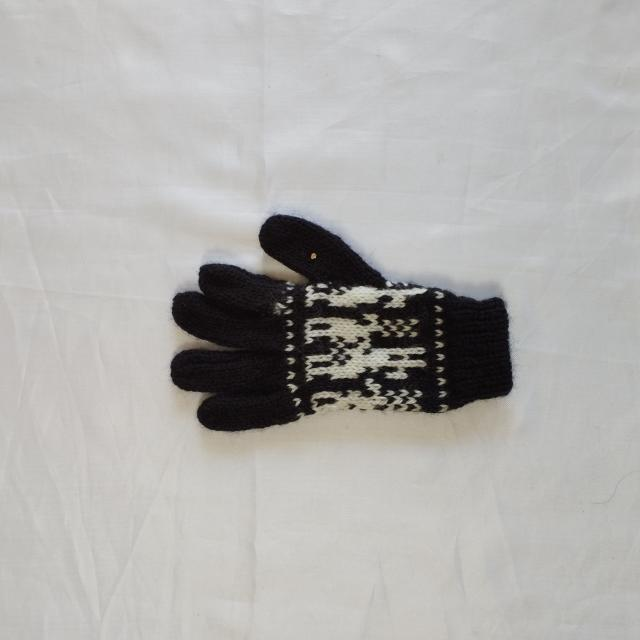Guante: (169, 212, 514, 433)
